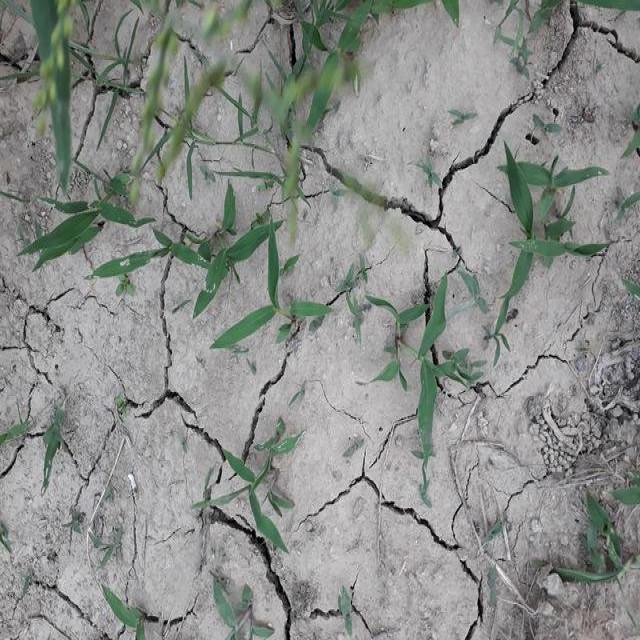weed: (36, 188, 314, 359), (496, 143, 604, 293), (390, 279, 470, 441), (198, 418, 301, 541), (28, 0, 84, 177)
